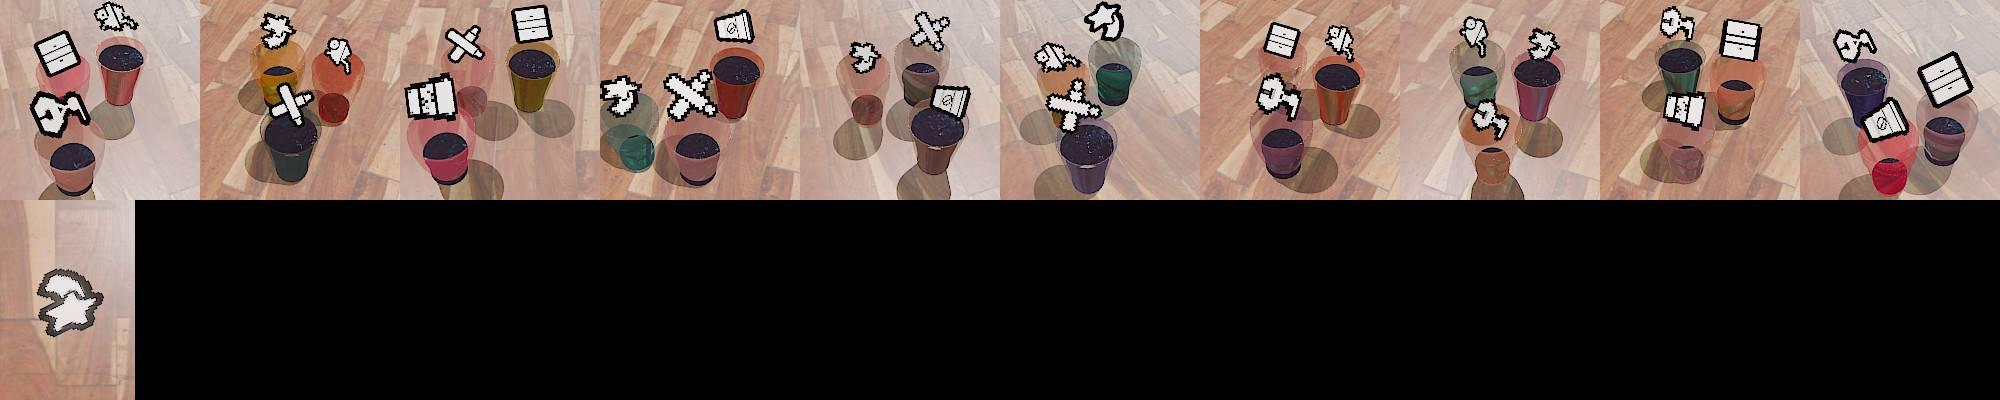icon: (34, 266, 103, 338), (1917, 51, 1974, 108), (28, 89, 94, 138), (1045, 78, 1102, 132), (659, 70, 718, 121), (404, 73, 458, 121), (33, 29, 83, 79), (1256, 73, 1304, 122), (1864, 96, 1911, 141), (1719, 18, 1763, 62), (272, 82, 314, 127), (599, 74, 643, 117), (1083, 1, 1125, 43), (929, 82, 972, 122), (911, 9, 950, 54), (511, 4, 554, 45), (1662, 90, 1707, 127), (1469, 99, 1510, 139), (444, 24, 485, 64), (713, 9, 756, 46), (1833, 28, 1878, 64), (1264, 20, 1301, 60), (260, 10, 297, 50), (93, 3, 139, 33), (1658, 5, 1695, 42), (1034, 41, 1075, 74), (1324, 23, 1356, 62), (1460, 17, 1490, 59), (1526, 27, 1561, 61), (848, 41, 881, 75), (323, 37, 352, 74)
